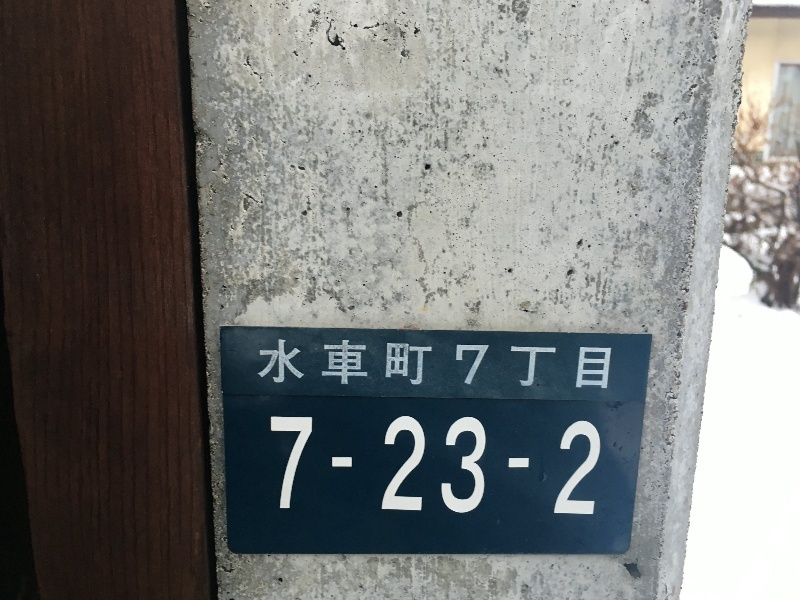text: (273, 414, 288, 521), (289, 414, 304, 521), (305, 414, 320, 521), (321, 414, 336, 521), (337, 414, 352, 521), (353, 414, 368, 521), (369, 414, 384, 521), (385, 414, 400, 521), (401, 414, 416, 521), (417, 414, 432, 521), (433, 414, 448, 521), (449, 414, 464, 521), (465, 414, 480, 521), (481, 414, 496, 521), (497, 414, 512, 521), (513, 414, 528, 521), (529, 414, 544, 521), (545, 414, 560, 521), (561, 414, 576, 521), (577, 414, 592, 521), (593, 414, 603, 521), (273, 338, 288, 397), (289, 338, 304, 397), (305, 338, 320, 397), (321, 338, 336, 397), (337, 338, 352, 397), (353, 338, 368, 397), (369, 338, 384, 397), (385, 338, 400, 397), (401, 338, 416, 397), (417, 338, 432, 397), (433, 338, 448, 397), (449, 338, 464, 397), (465, 338, 480, 397), (481, 338, 496, 397), (497, 338, 512, 397), (513, 338, 528, 397), (529, 338, 544, 397), (545, 338, 560, 397), (561, 338, 576, 397), (577, 338, 592, 397), (593, 338, 608, 397), (258, 338, 272, 397), (267, 414, 272, 521), (609, 338, 614, 397)
